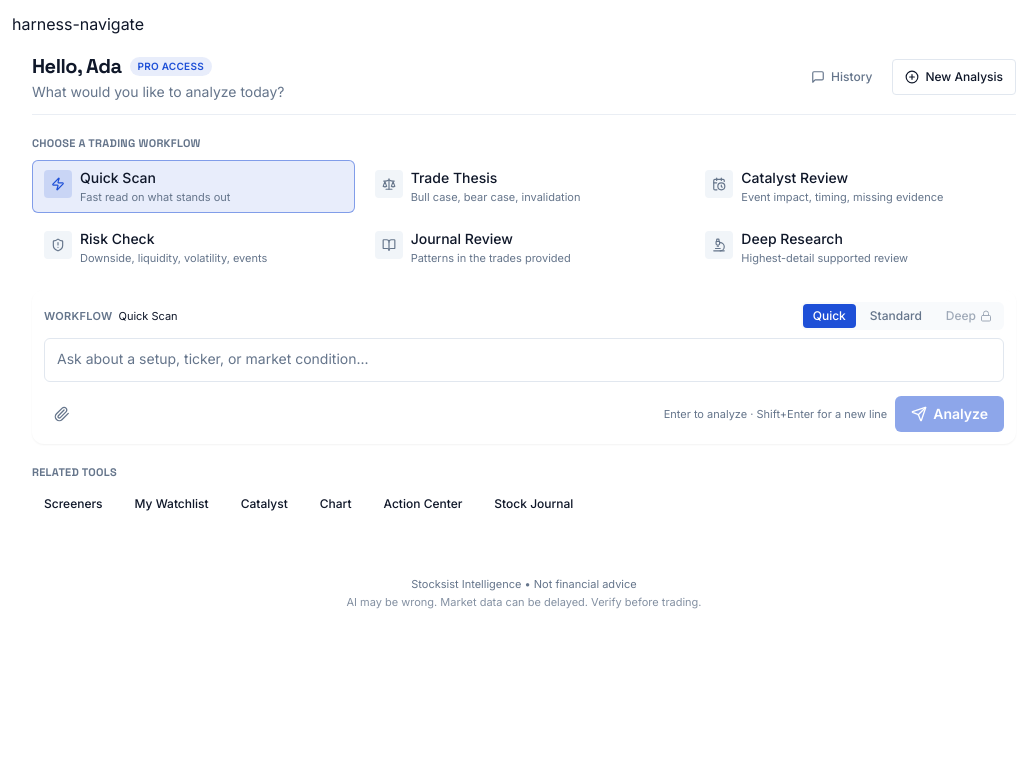
Test: AI Analyst — request lifecycle › drops provisional tool commentary before showing the verified answer
The image size is (1036, 780).
Step 1. Type "What is AAPL at?" into the text box with placeholder "Ask about a setup, ticker, or market condition..." → (524, 360), box [44,338,1004,382]
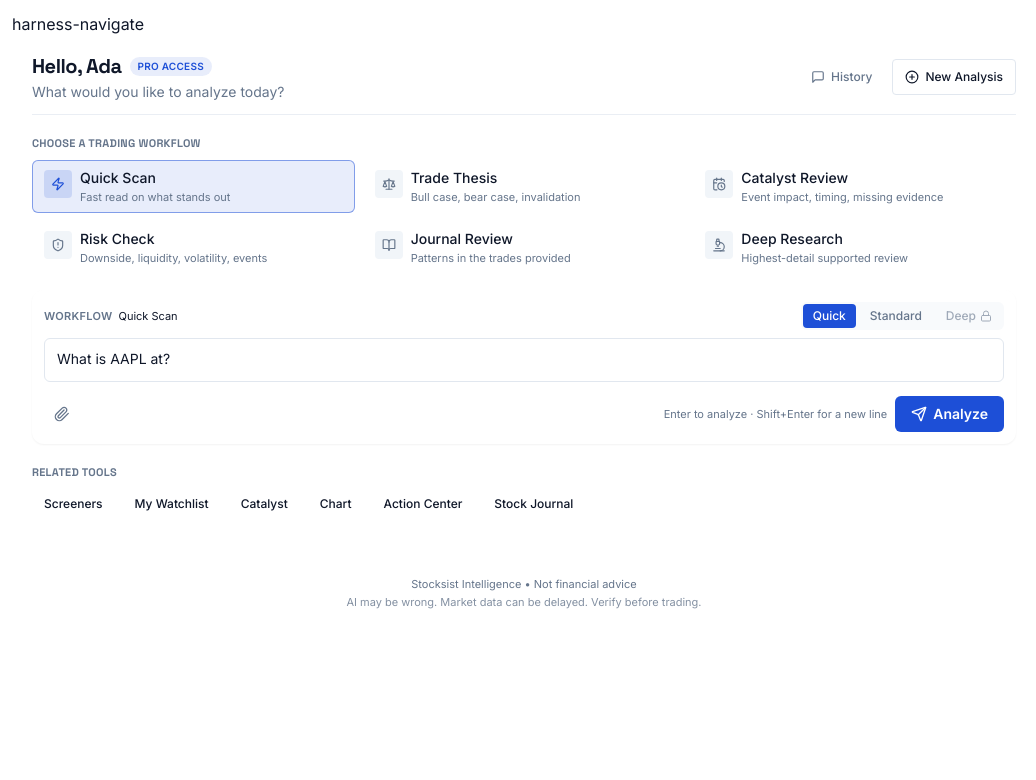
Step 2. Press Enter in the text box with placeholder "Ask about a setup, ticker, or market condition...", box [44,338,1004,382]
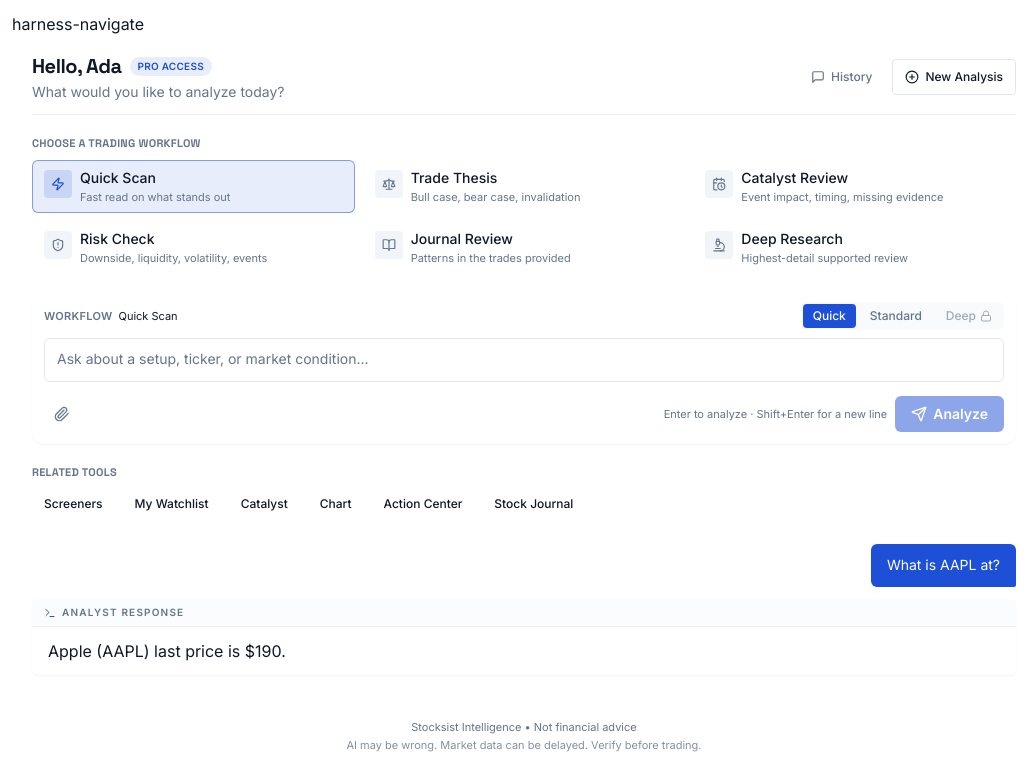
Expected: the text "Apple (AAPL) last price is $190." is shown, [48,641,286,661]
